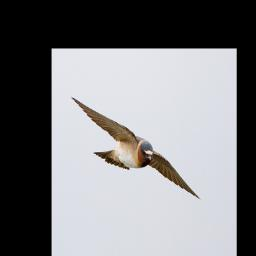Swallow: (70, 93, 201, 198)
